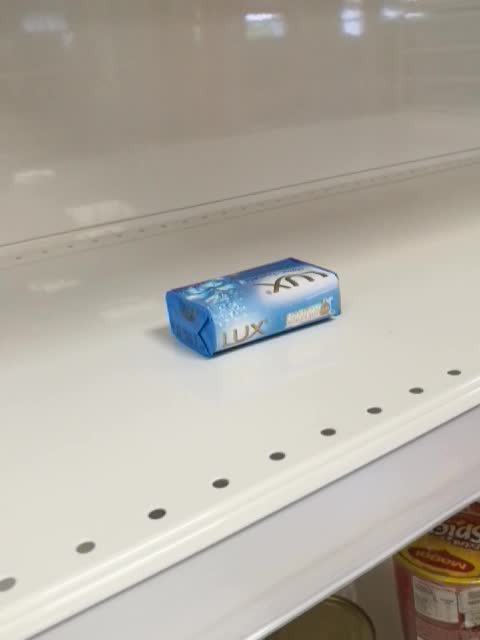soap: (164, 256, 342, 359)
